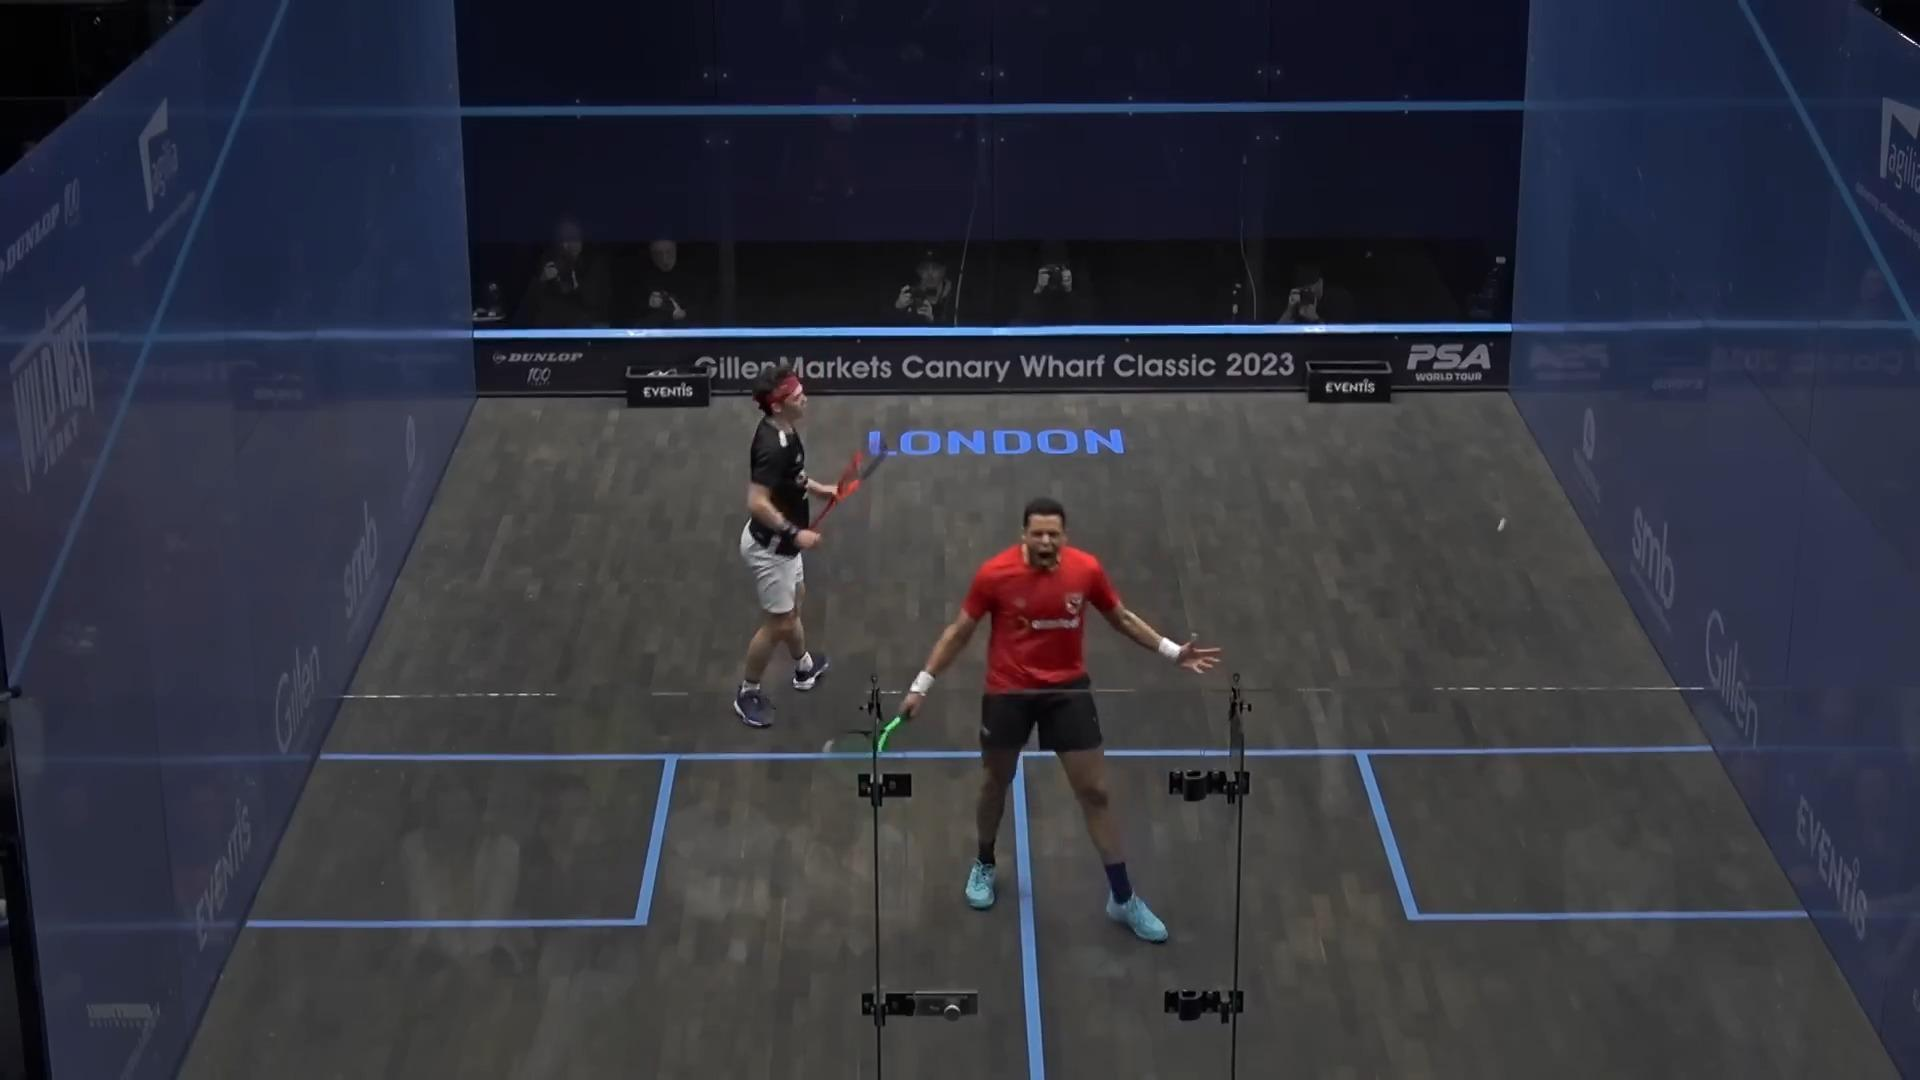Racket: (816, 708, 920, 798), (804, 435, 897, 530)
